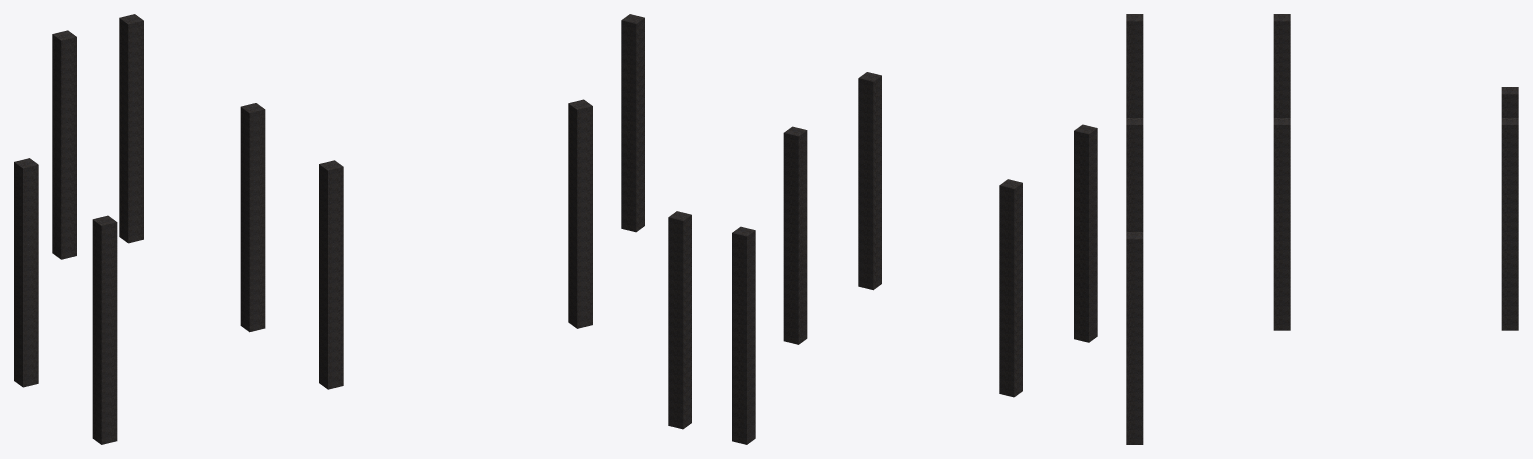
The picture shows the model from 3 angles, left to right: view 1: azimuth 30°, elevation 25°; view 2: azimuth 150°, elevation 25°; view 3: azimuth 270°, elevation 25°; orthographic projection. The views are drawn at different scales.
Visible parts, largest first — view 1: Columns_Rectangular 300 x 300 mm [685073]001, Columns_Rectangular 300 x 300 mm [684810]001, Columns_Rectangular 300 x 300 mm [684578]001, Columns_Rectangular 300 x 300 mm [685232]001, Columns_Rectangular 300 x 300 mm [685329]001, Columns_Rectangular 300 x 300 mm [684613]001, Columns_Rectangular 300 x 300 mm [684483]001; view 2: Columns_Rectangular 300 x 300 mm [684810]001, Columns_Rectangular 300 x 300 mm [684483]001, Columns_Rectangular 300 x 300 mm [685073]001, Columns_Rectangular 300 x 300 mm [685329]001, Columns_Rectangular 300 x 300 mm [684613]001, Columns_Rectangular 300 x 300 mm [684578]001, Columns_Rectangular 300 x 300 mm [685232]001; view 3: Columns_Rectangular 300 x 300 mm [684578]001, Columns_Rectangular 300 x 300 mm [684810]001, Columns_Rectangular 300 x 300 mm [685329]001, Columns_Rectangular 300 x 300 mm [685232]001, Columns_Rectangular 300 x 300 mm [684613]001, Columns_Rectangular 300 x 300 mm [685073]001, Columns_Rectangular 300 x 300 mm [684483]001.
Boxes of the visible parts, x1,y1,x2,y2 form: Columns_Rectangular 300 x 300 mm [685073]001: (92,215,117,444); Columns_Rectangular 300 x 300 mm [684810]001: (240,103,265,332); Columns_Rectangular 300 x 300 mm [684578]001: (119,14,143,243); Columns_Rectangular 300 x 300 mm [685232]001: (319,160,343,389); Columns_Rectangular 300 x 300 mm [685329]001: (568,99,592,328); Columns_Rectangular 300 x 300 mm [684613]001: (14,158,38,387); Columns_Rectangular 300 x 300 mm [684483]001: (52,30,76,259); Columns_Rectangular 300 x 300 mm [684810]001: (783,126,807,344); Columns_Rectangular 300 x 300 mm [684483]001: (732,226,755,444); Columns_Rectangular 300 x 300 mm [685073]001: (1074,124,1097,342); Columns_Rectangular 300 x 300 mm [685329]001: (621,14,644,232); Columns_Rectangular 300 x 300 mm [684613]001: (999,179,1022,397); Columns_Rectangular 300 x 300 mm [684578]001: (668,211,691,429); Columns_Rectangular 300 x 300 mm [685232]001: (858,72,881,290); Columns_Rectangular 300 x 300 mm [684578]001: (1501,118,1518,330); Columns_Rectangular 300 x 300 mm [684810]001: (1273,118,1290,330); Columns_Rectangular 300 x 300 mm [685329]001: (1126,232,1143,444); Columns_Rectangular 300 x 300 mm [685232]001: (1126,118,1143,231); Columns_Rectangular 300 x 300 mm [684613]001: (1273,14,1290,117); Columns_Rectangular 300 x 300 mm [685073]001: (1126,14,1143,117); Columns_Rectangular 300 x 300 mm [684483]001: (1501,87,1518,117).
Size of the model in its own units: 9.39 by 4 by 6.91.
1 material, 1 textured.
